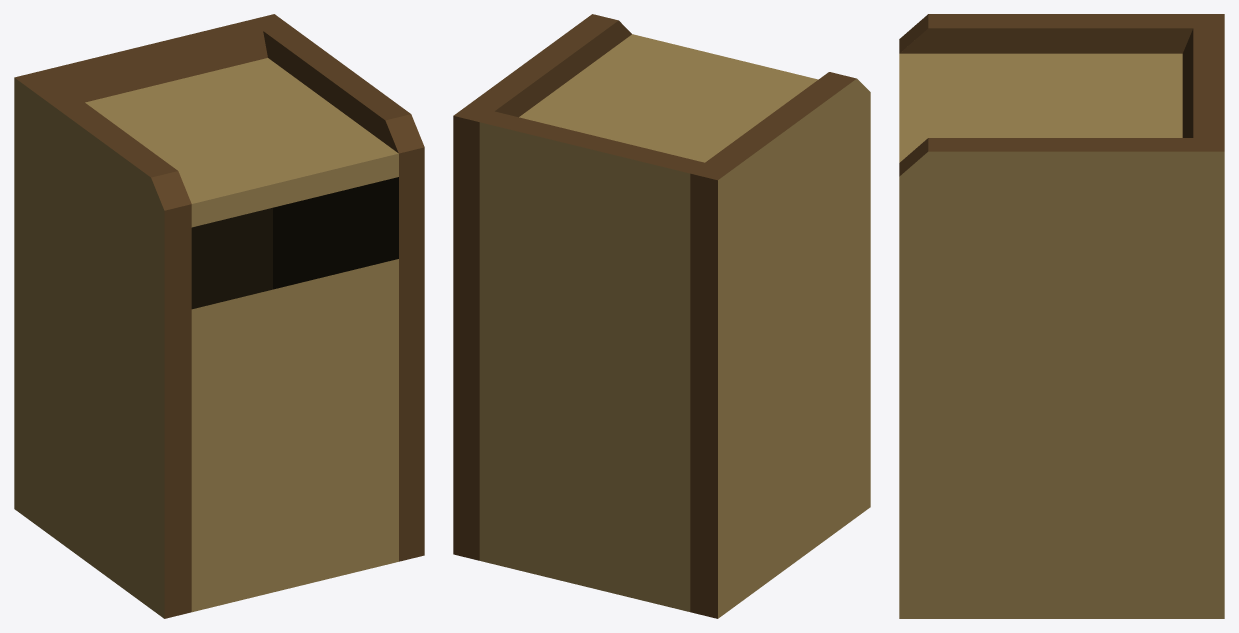
File: pandemonium_dining_trash.fbx
3 renders of one model, left to right at view 1: azimuth 30°, elevation 25°; view 2: azimuth 150°, elevation 25°; view 3: azimuth 270°, elevation 25°, orthographic. The views are drawn at different scales.
Visible parts, largest first — view 1: Cube.471; view 2: Cube.471; view 3: Cube.471.
Boxes of the visible parts, bbox=[...] form: Cube.471: bbox=[14, 14, 424, 618]; Cube.471: bbox=[453, 14, 870, 618]; Cube.471: bbox=[899, 14, 1224, 618].
Bounding box in the file's own units: 200 × 317 × 200.
